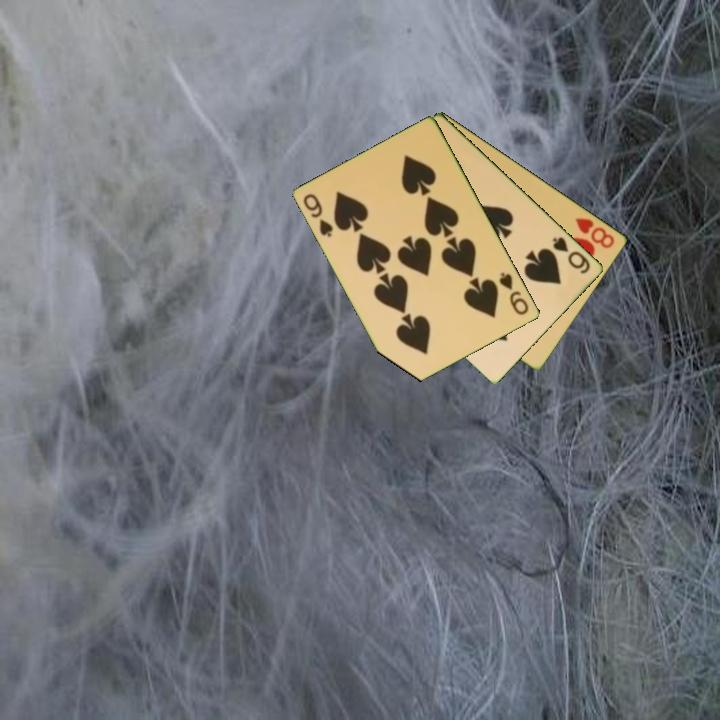6s: (549, 233, 593, 277)
8h: (572, 214, 618, 251)
9s: (300, 190, 337, 240), (496, 269, 532, 318)
